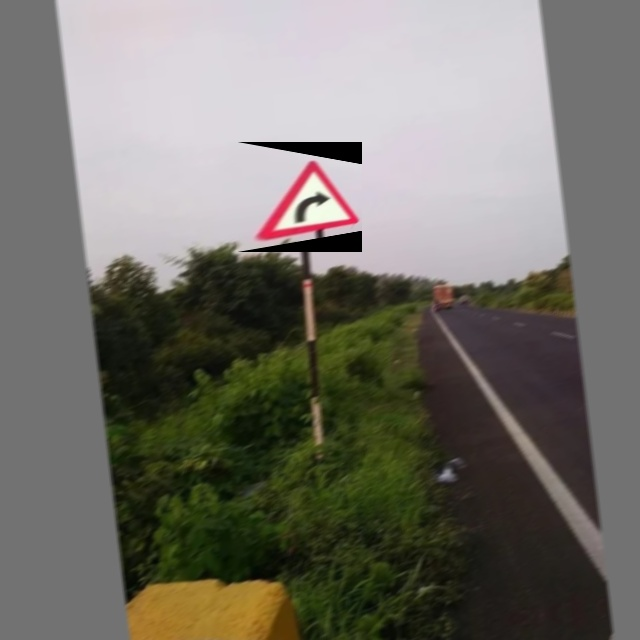Right_Hand_Curve: (237, 142, 362, 252)
